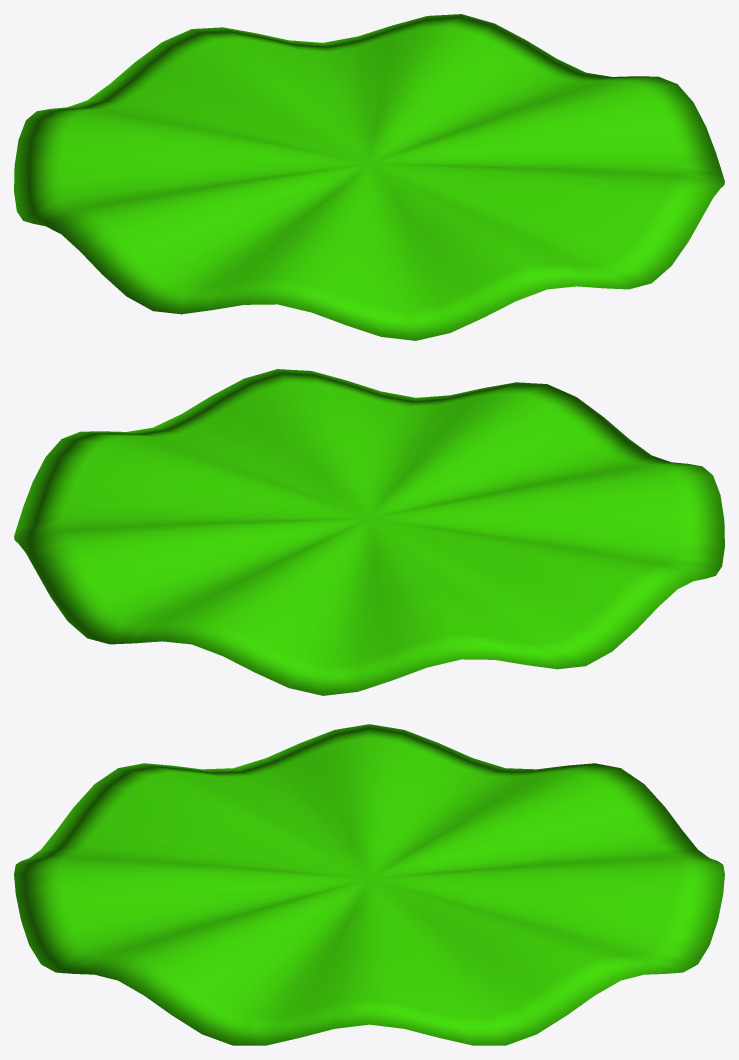
The model's file is salad.fbx.
3 renders of one model, top to bottom at view 1: azimuth 30°, elevation 25°; view 2: azimuth 150°, elevation 25°; view 3: azimuth 270°, elevation 25°, orthographic.
Visible parts, largest first — view 1: Salade; view 2: Salade; view 3: Salade.
Boxes of the visible parts, x1,y1,x2,y2 form: Salade: (14, 14, 724, 340); Salade: (14, 369, 724, 695); Salade: (14, 724, 724, 1045).
Size of the model in its own units: 190 by 12.94 by 190.
